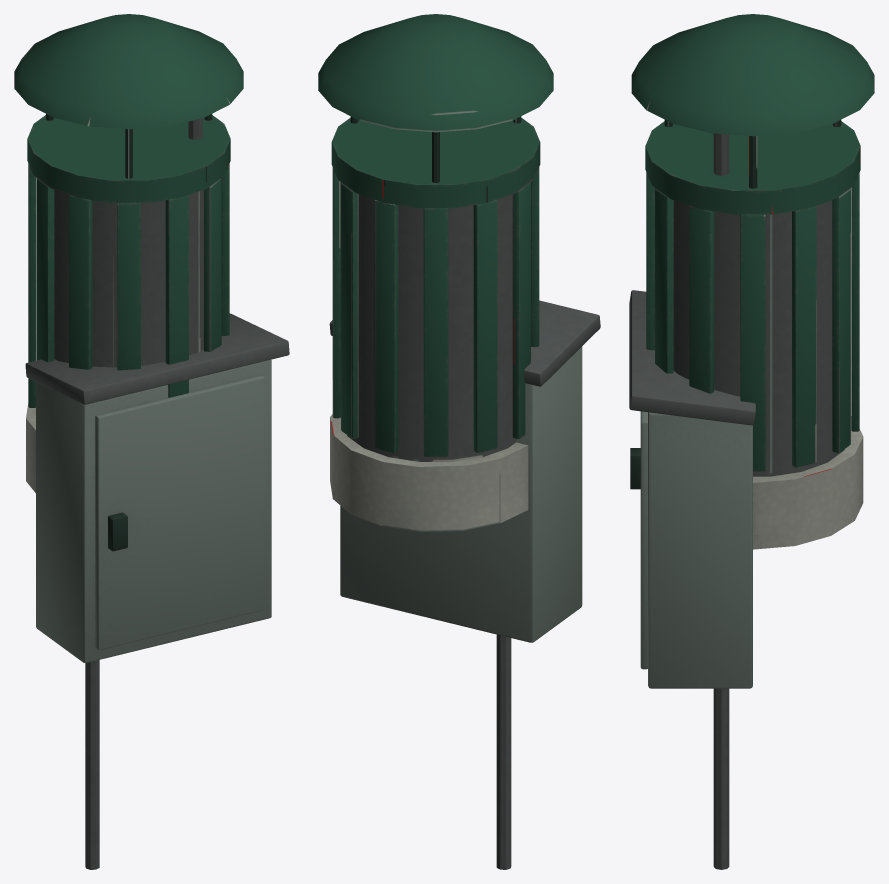
File: CTCC_LOC01_CourtyardProps.fbx
3 views of the same model, side by side, from view 1: azimuth 30°, elevation 25°; view 2: azimuth 150°, elevation 25°; view 3: azimuth 270°, elevation 25° (orthographic). The views are drawn at different scales.
Parts seen in each view (by area): view 1: ElectricalCabinet, TrashBin; view 2: TrashBin, ElectricalCabinet; view 3: TrashBin, ElectricalCabinet.
Part boxes in pixels (box(x1,y1,x2,y2)): ElectricalCabinet: box(25, 118, 289, 869); TrashBin: box(14, 14, 243, 492); TrashBin: box(318, 14, 553, 531); ElectricalCabinet: box(329, 300, 600, 869); TrashBin: box(631, 14, 874, 549); ElectricalCabinet: box(629, 133, 755, 869).
Bounding box in the file's own units: 0.48 × 1.82 × 0.4669.
